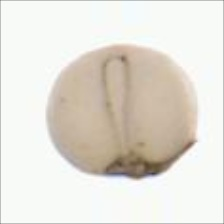L5: (93, 138, 196, 183), (98, 55, 147, 149)
L6: (40, 42, 206, 186)
